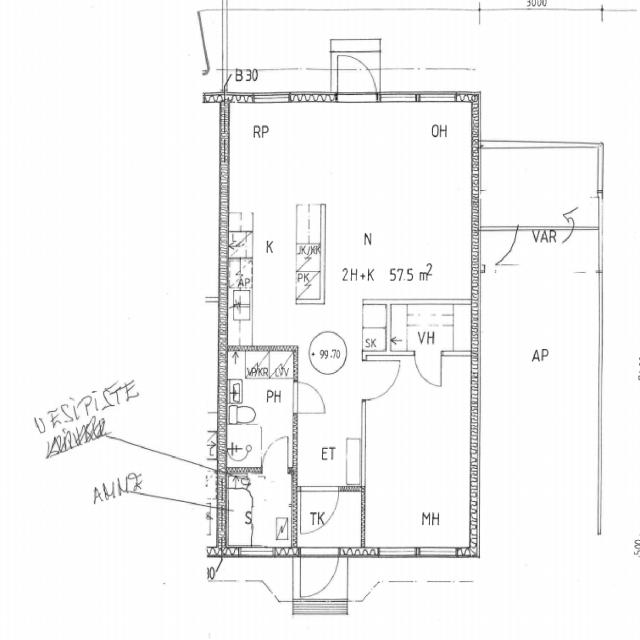door: (297, 546, 343, 601), (334, 51, 379, 102), (361, 356, 402, 403), (290, 377, 328, 418), (482, 225, 520, 265), (260, 431, 294, 472), (412, 351, 445, 390)
window: (251, 88, 293, 105), (236, 544, 275, 562), (377, 88, 418, 105), (417, 544, 459, 560), (377, 544, 418, 560), (416, 89, 458, 103), (594, 146, 606, 193)
zone: (478, 144, 600, 228), (222, 348, 297, 472), (218, 470, 292, 552), (296, 486, 342, 534)
